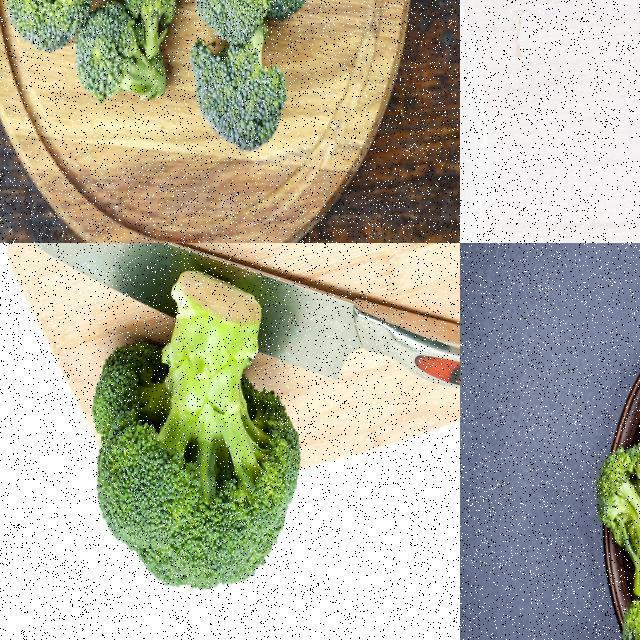broccoli: (82, 262, 302, 616), (184, 12, 284, 156), (78, 10, 170, 107), (597, 439, 639, 605), (0, 0, 100, 54), (196, 0, 281, 42), (257, 0, 318, 30)
